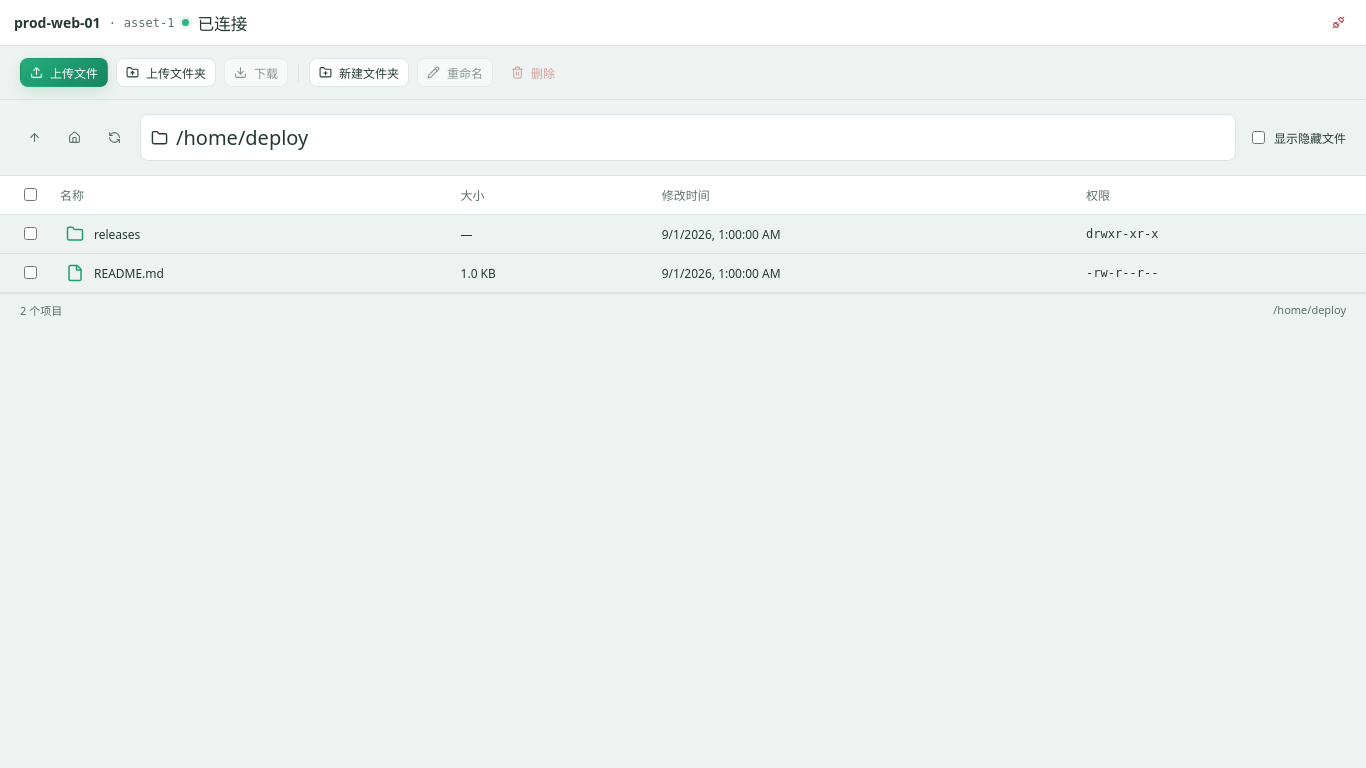
Test: 重连关闭旧会话的删除确认，不允许旧路径操作新会话
The width and height of the screenshot is (1366, 768).
Click the checkbox named "选择 README.md" at (30, 272), box [24,266,37,279]
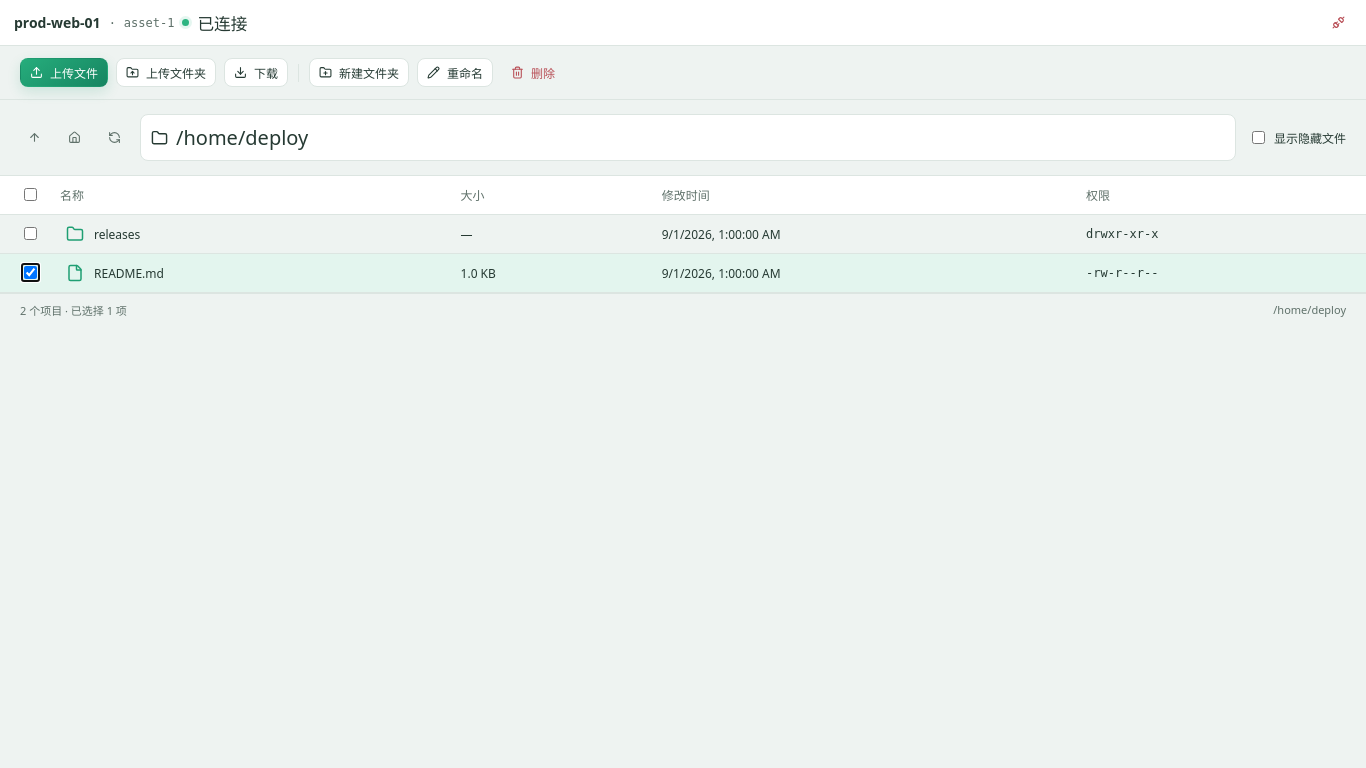
Click the button "删除" at (533, 72), box [501,58,565,87]
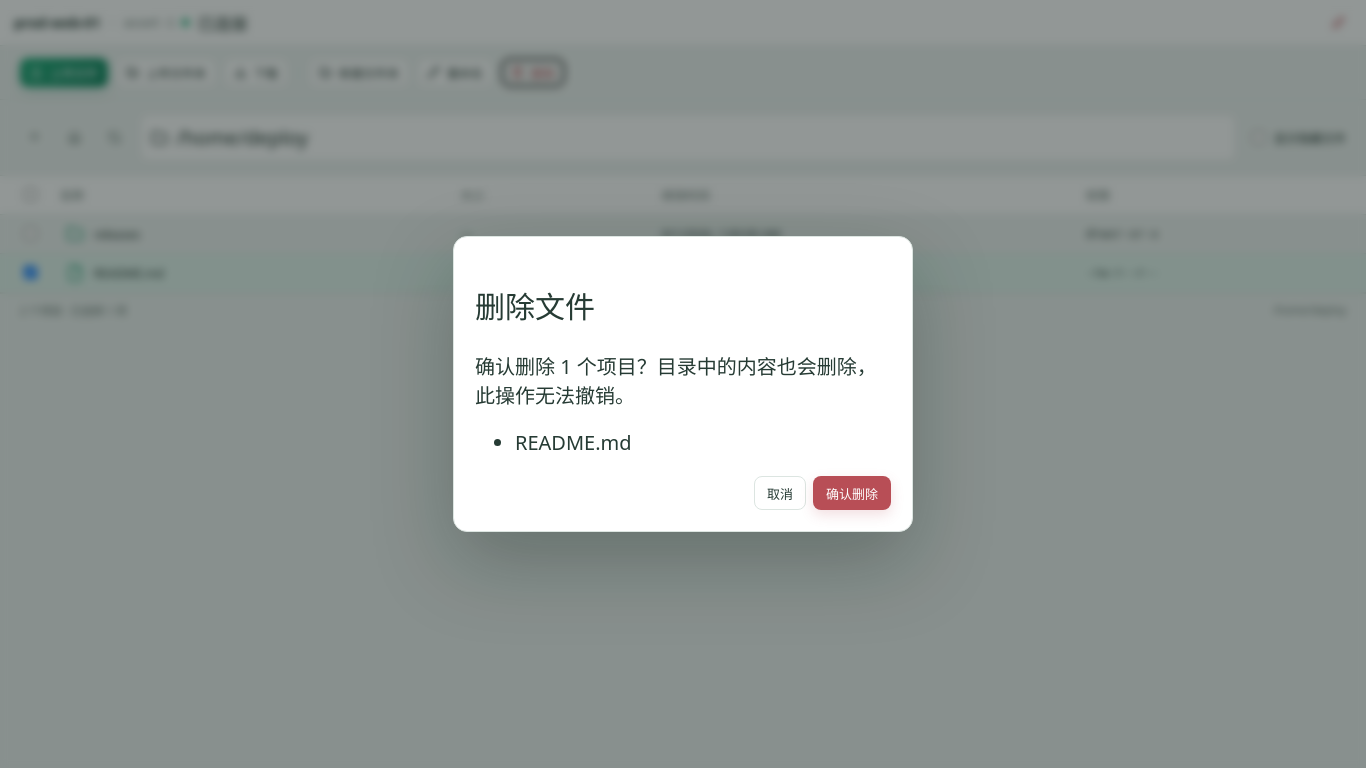
Expected: the dialog "删除文件" is shown, [453,236,913,532]
